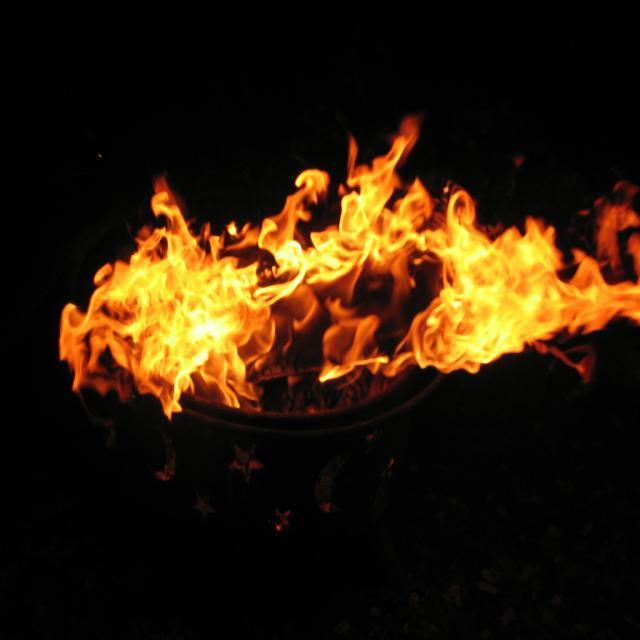Fire: (125, 258, 236, 357), (455, 242, 559, 336)
